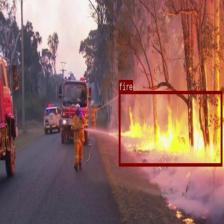fire: (119, 90, 222, 166)
